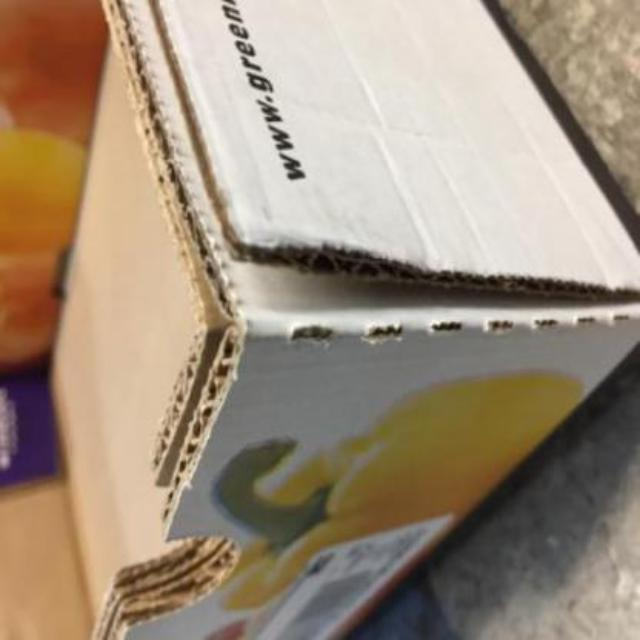cardboard_box: (40, 8, 640, 636)
